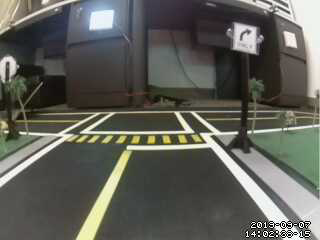Right_only_sign: (236, 23, 257, 57)
